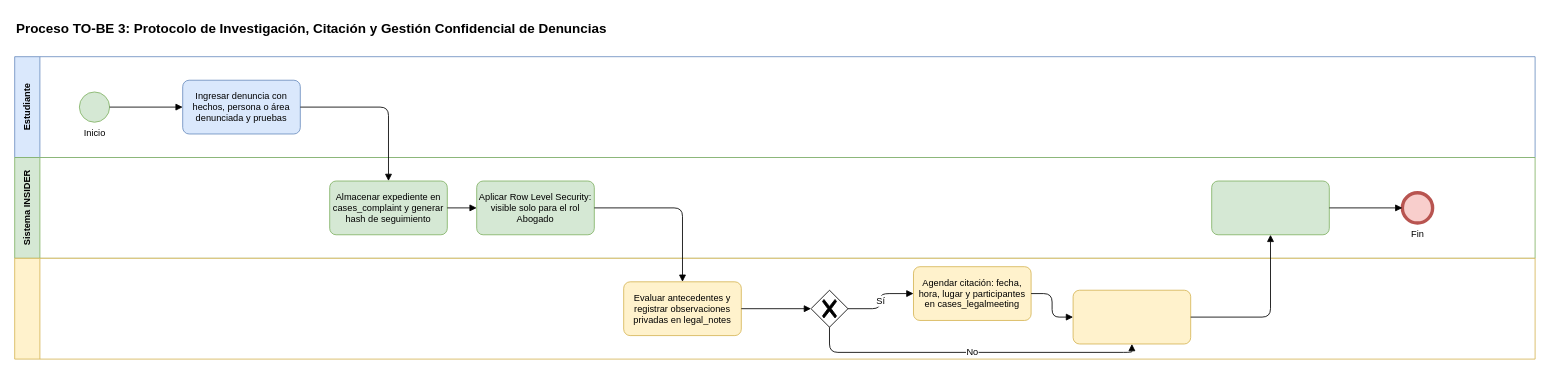
Image size: 1550x374. Some labels were removed from this diagram. The box of each missing label's shape, as (x1, y1, x2, y2) in pixels:
Abogado: (14, 257, 1535, 359)
Actualizar estado de la denuncia sin eliminación física del registro: (1211, 180, 1329, 235)
Registrar dictamen final o anulación lógica fundamentada: (1072, 289, 1191, 344)
¿Requiere citación?: (810, 289, 848, 327)
